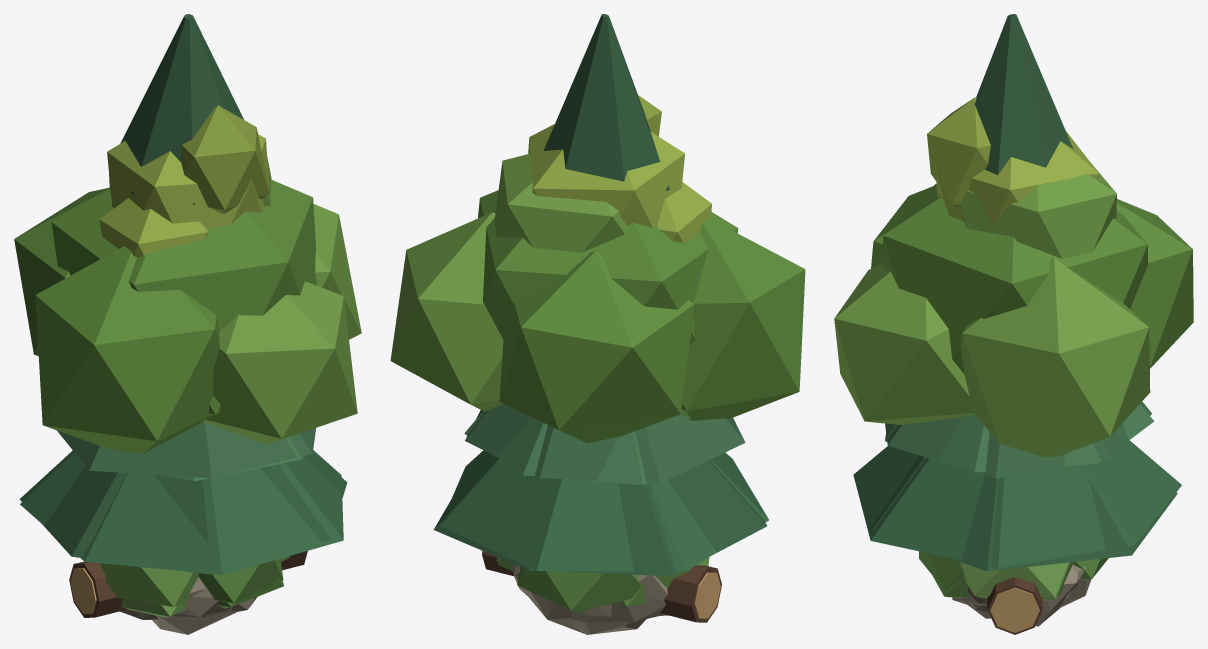
File: nature.glb
The picture shows the model from 3 angles, left to right: view 1: azimuth 30°, elevation 25°; view 2: azimuth 150°, elevation 25°; view 3: azimuth 270°, elevation 25°; orthographic projection.
Visible parts, largest first — view 1: oak, pine_b, pine_a, birch, bush_a, bush_b, log, rock_c, rock_a; view 2: oak, pine_b, pine_a, birch, bush_a, log, rock_a, rock_c; view 3: oak, pine_a, pine_b, birch, bush_b, log, bush_a, rock_a, rock_c.
Part boxes in pixels (box(x1,y1,x2,y2)): oak: box(14, 158, 361, 453); pine_b: box(19, 14, 347, 574); pine_a: box(20, 428, 343, 574); birch: box(99, 105, 269, 257); bush_a: box(99, 557, 289, 608); bush_b: box(121, 555, 291, 617); log: box(69, 551, 307, 617); rock_c: box(152, 578, 236, 634); rock_a: box(178, 577, 231, 616); oak: box(390, 153, 805, 443); pine_b: box(433, 14, 766, 576); pine_a: box(440, 411, 768, 571); birch: box(528, 95, 711, 243); bush_a: box(498, 557, 709, 613); log: box(482, 551, 721, 622); rock_a: box(512, 565, 667, 634); rock_c: box(519, 570, 646, 634); oak: box(834, 163, 1193, 456); pine_a: box(853, 404, 1181, 568); pine_b: box(871, 14, 1177, 571); birch: box(927, 97, 1098, 226); bush_b: box(919, 551, 1069, 597); log: box(987, 577, 1042, 634); bush_a: box(933, 558, 1108, 600); rock_a: box(970, 567, 1079, 626); rock_c: box(959, 565, 1091, 618).
Bounding box in the file's own units: 4.26 × 7.2 × 3.91.
